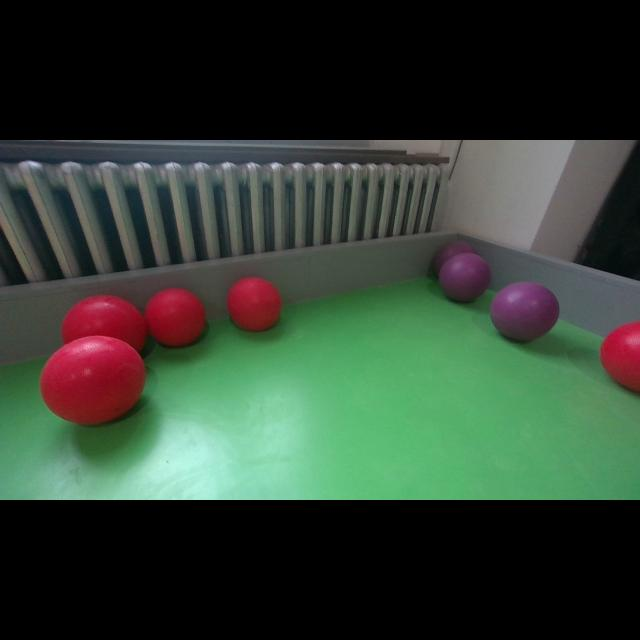P: (490, 282, 560, 342), (438, 252, 492, 302)
R: (40, 334, 146, 426), (52, 294, 146, 358), (596, 310, 640, 396), (144, 288, 206, 346), (227, 276, 281, 332)
